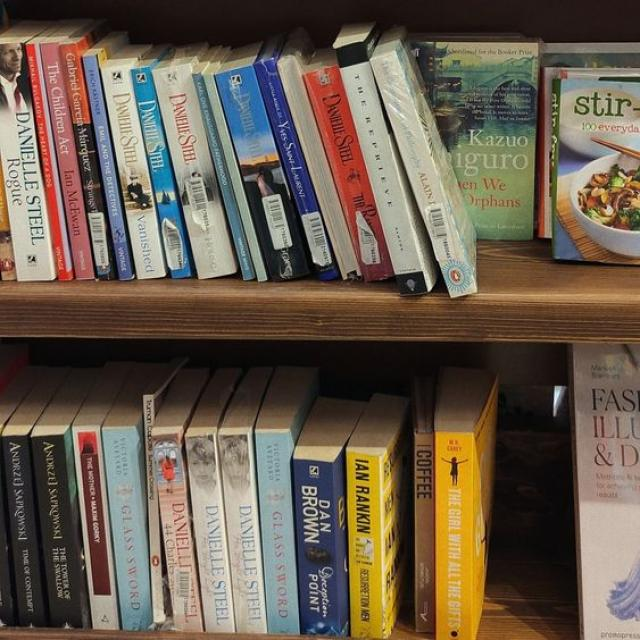book: (333, 23, 437, 294), (372, 28, 475, 297), (215, 45, 308, 279), (304, 62, 390, 281), (256, 57, 339, 279), (153, 64, 237, 281), (102, 68, 169, 281), (202, 74, 269, 283), (60, 36, 115, 279), (0, 42, 55, 280), (192, 72, 254, 280), (129, 66, 190, 275), (31, 420, 91, 626), (42, 42, 94, 279), (0, 73, 56, 280), (83, 54, 134, 280), (26, 42, 73, 280), (152, 426, 204, 632), (103, 416, 151, 630), (183, 433, 234, 632), (217, 434, 268, 632), (2, 421, 48, 625), (255, 431, 301, 633), (73, 423, 118, 629), (295, 457, 346, 635), (436, 428, 476, 640), (143, 393, 172, 625), (348, 454, 384, 640), (415, 430, 435, 632)
